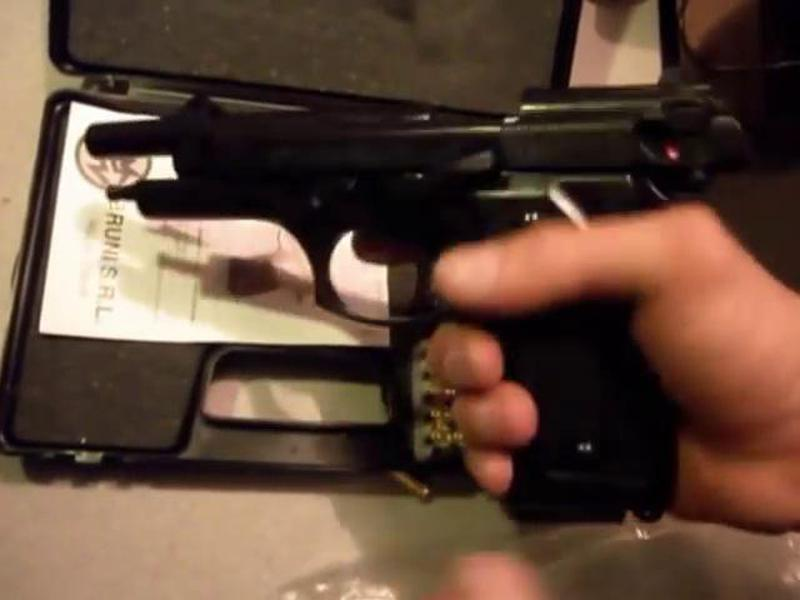Pistola: (69, 81, 736, 543)
